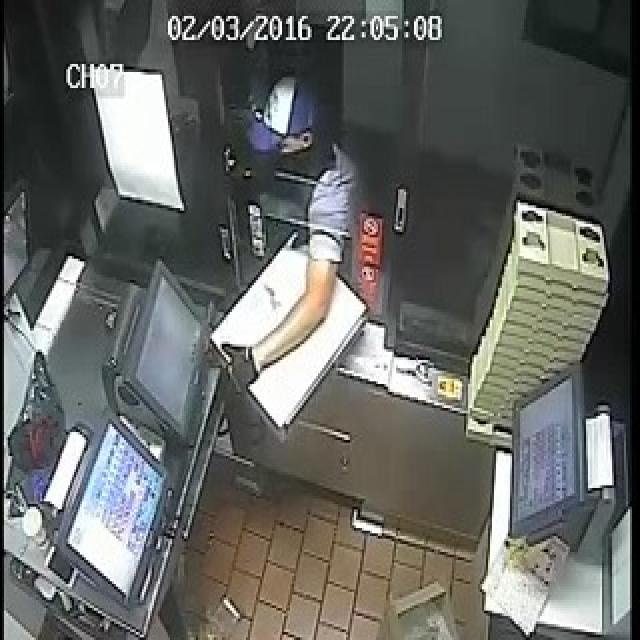thief: (252, 91, 367, 264)
